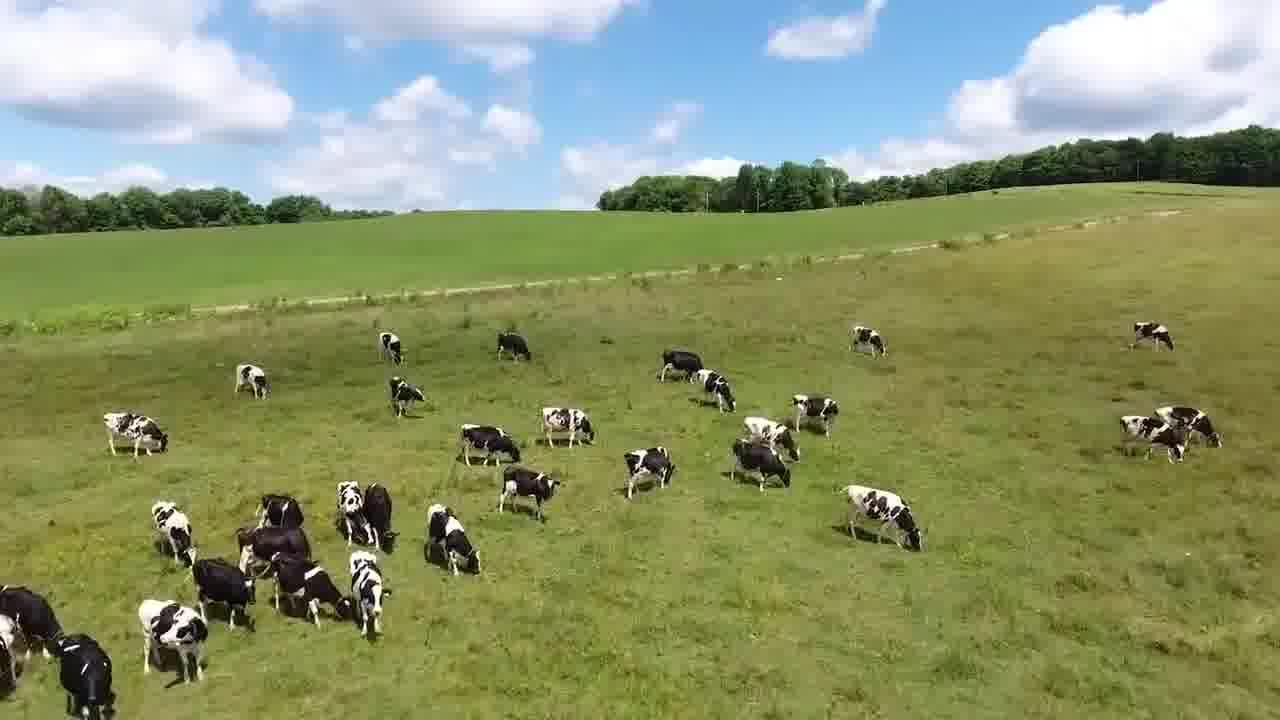cow: (135, 593, 215, 685), (836, 482, 929, 551), (186, 555, 263, 637), (54, 626, 122, 716), (269, 556, 357, 625), (419, 504, 487, 581), (495, 463, 566, 531), (0, 578, 67, 649), (231, 523, 319, 576), (344, 547, 394, 636), (730, 434, 795, 497), (102, 407, 171, 465), (1120, 411, 1190, 467), (1152, 401, 1225, 452), (456, 417, 524, 470), (742, 414, 806, 468), (152, 496, 201, 566), (620, 444, 679, 500), (535, 405, 601, 450), (361, 481, 404, 550), (690, 367, 744, 417), (790, 394, 846, 438), (336, 479, 369, 541), (254, 487, 301, 528), (1128, 319, 1176, 357), (233, 362, 273, 406), (387, 374, 426, 419), (847, 325, 890, 364), (661, 346, 705, 382), (493, 328, 531, 365), (378, 328, 406, 366)
